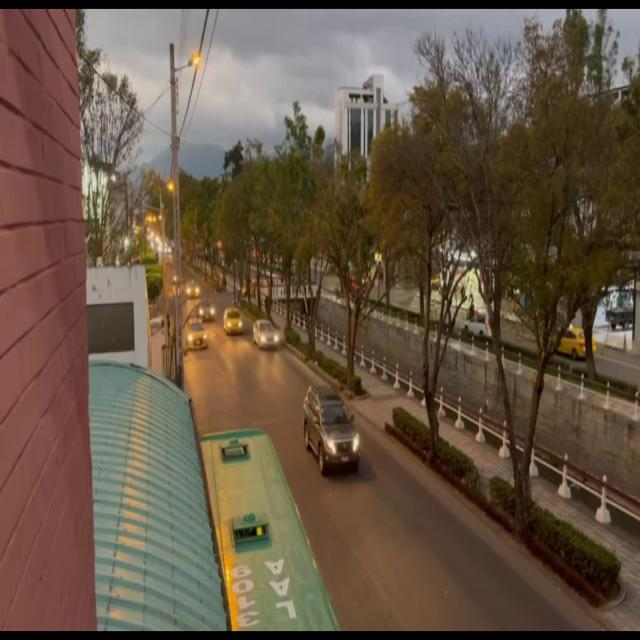BUS: (199, 427, 340, 628)
SED: (258, 324, 280, 351), (186, 323, 206, 351), (227, 310, 244, 334)
SUV: (310, 390, 360, 474)
